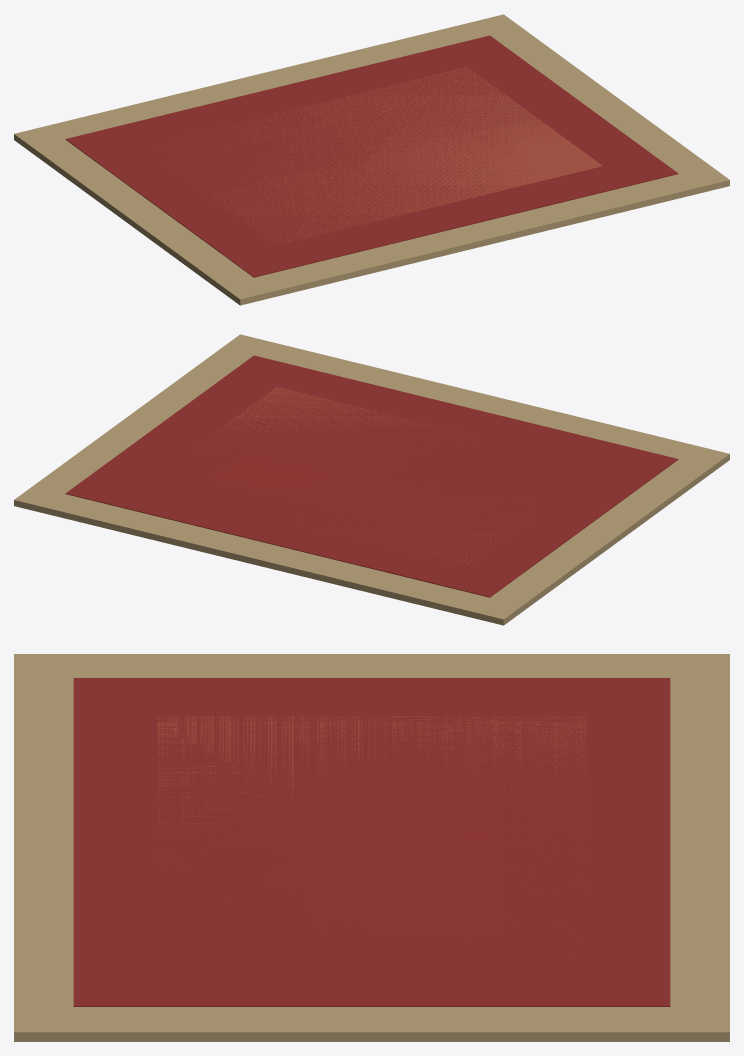
File: Decor_LittleHouse_Flooring.fbx
3 views of the same model, one above another, from view 1: azimuth 30°, elevation 25°; view 2: azimuth 150°, elevation 25°; view 3: azimuth 270°, elevation 25° (orthographic). The views are drawn at different scales.
Parts seen in each view (by area): view 1: Flooring_Rug; view 2: Flooring_Rug; view 3: Flooring_Rug.
Boxes of the visible parts, x1=… form: Flooring_Rug: x1=14, y1=14, x2=729, y2=305; Flooring_Rug: x1=14, y1=334, x2=729, y2=625; Flooring_Rug: x1=14, y1=654, x2=729, y2=1041.
Size of what is drawn, in the model's own units: 15 by 0.2 by 12.
